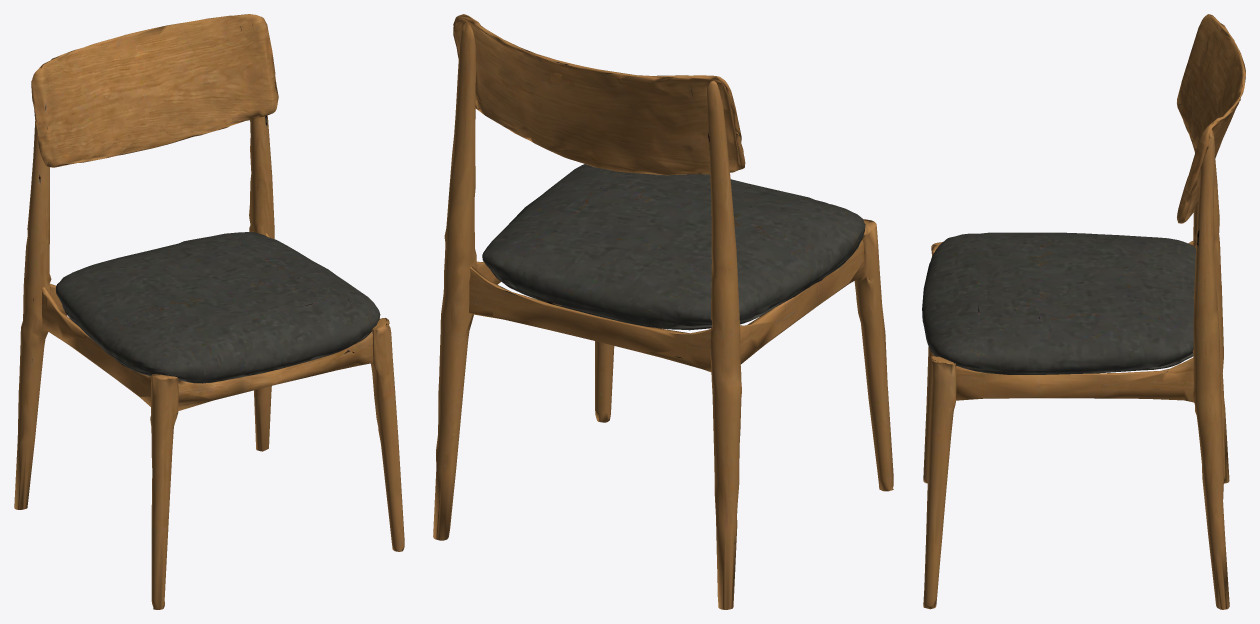
The model's file is mobile.glb.
The picture shows the model from 3 angles, left to right: view 1: azimuth 30°, elevation 25°; view 2: azimuth 150°, elevation 25°; view 3: azimuth 270°, elevation 25°; orthographic projection. The views are drawn at different scales.
Parts seen in each view (by area): view 1: chair; view 2: chair; view 3: chair.
Boxes of the visible parts, <box> form: chair: <box>14,14,404,609</box>; chair: <box>433,14,893,609</box>; chair: <box>922,14,1245,609</box>.
Bounding box in the file's own units: 0.5377 × 0.8998 × 0.5561.
1 material, 1 textured.
